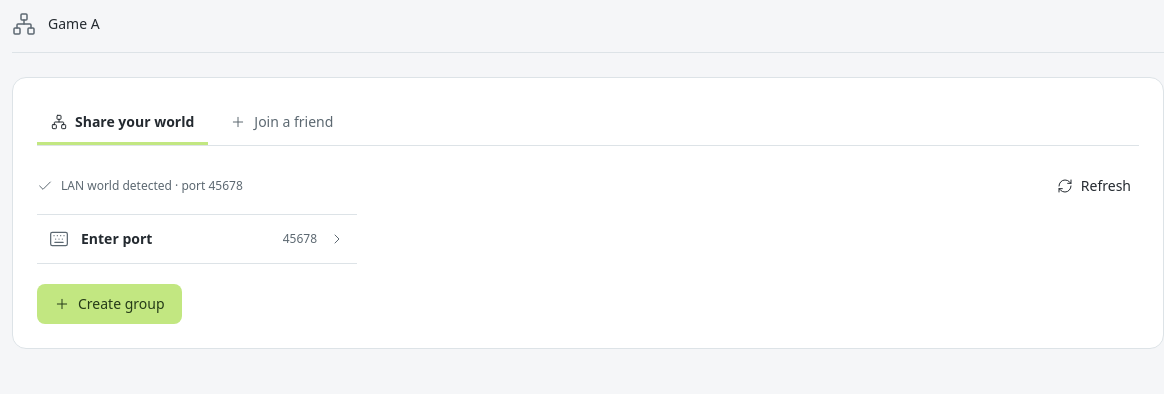
Scenario: allows native relay selection when this game has no saved relay
Click the button "Create group" at (109, 304), box [37, 284, 182, 324]
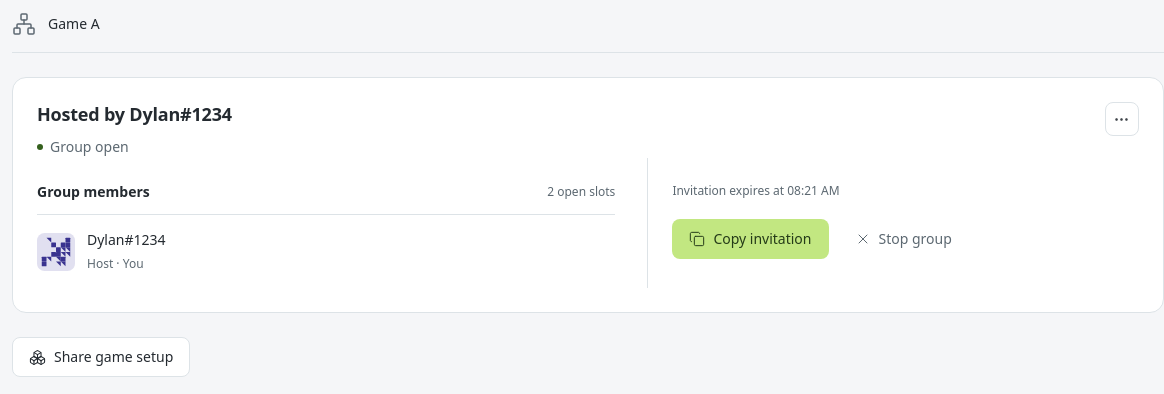
expect the text "Hosted by Dylan#1234" is shown: met, box [37, 102, 232, 127]
